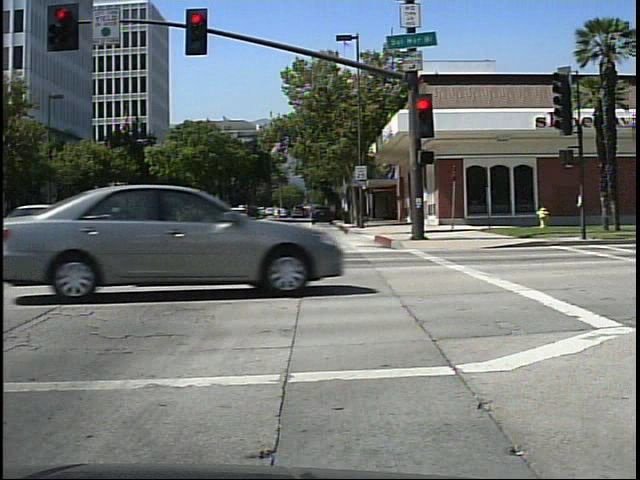person: (273, 204, 285, 223)
